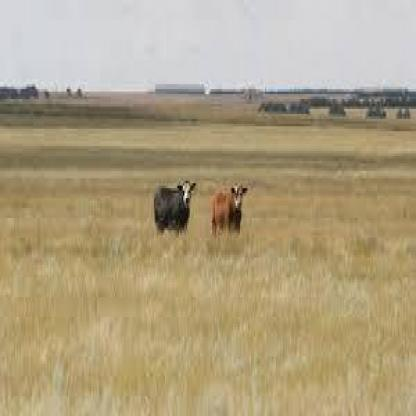cow: (154, 180, 194, 238), (212, 184, 250, 242)
